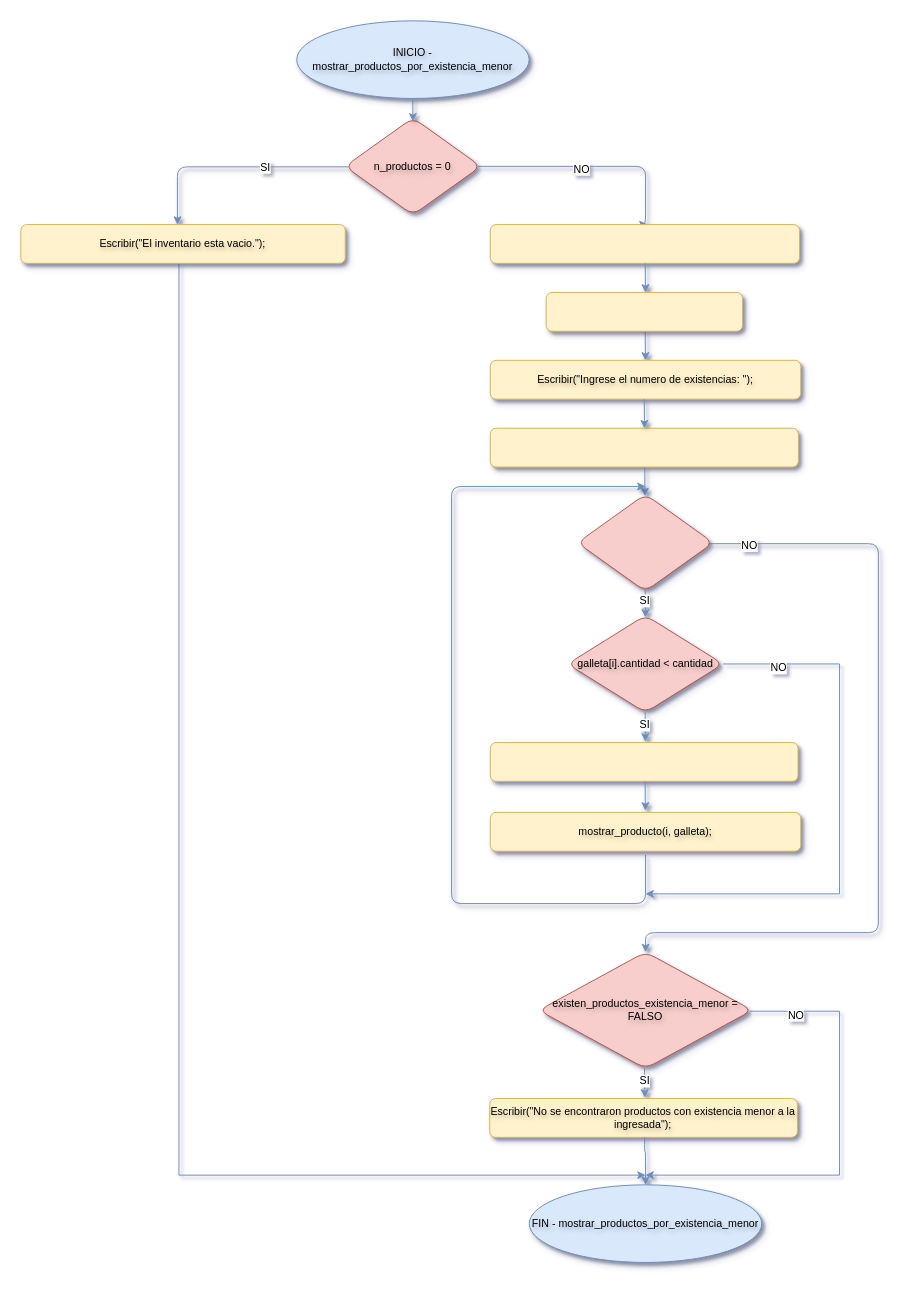
Image size: 915x1292. Some labels were removed from this diagram. The centre of each missing label's shape, as x and y in pixels:
Escribir("** Mostrar_productos_por_existencia_menor **");: point (645, 245)
existen_productos_existencia_menor = FALSO;: point (644, 313)
existen_productos_existencia_menor = VERDADERO: point (644, 763)
i < n_productos: point (646, 543)
Leer(cantidad);: point (644, 448)
